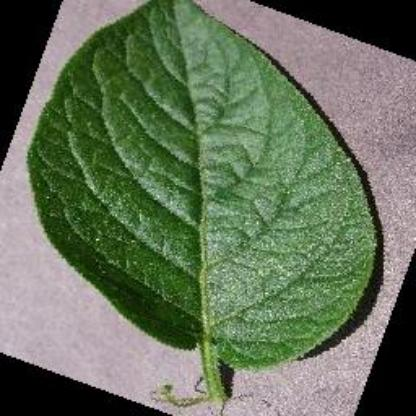Healthy-plant: (25, 0, 388, 398)
